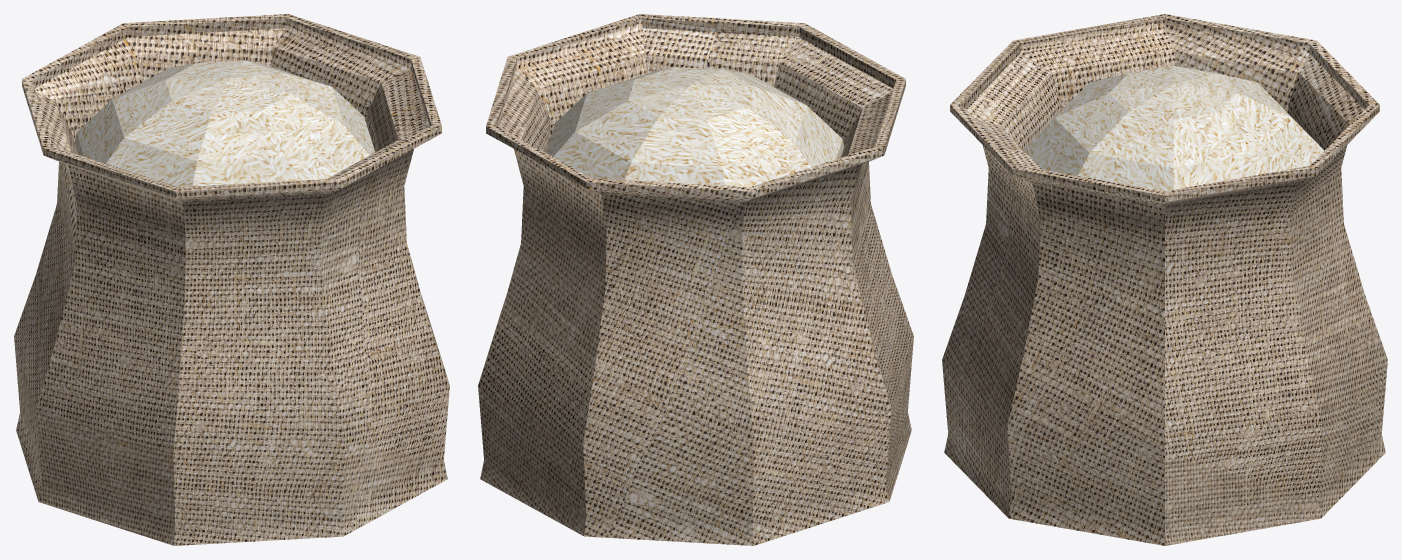
Rendered from Sackofrice.fbx.
3 renders of one model, left to right at view 1: azimuth 30°, elevation 25°; view 2: azimuth 150°, elevation 25°; view 3: azimuth 270°, elevation 25°, orthographic.
Visible parts, largest first — view 1: polySurface8; view 2: polySurface8; view 3: polySurface8.
Part boxes in pixels (x1,y1,x2,y2): polySurface8: (14, 14, 449, 545); polySurface8: (478, 14, 913, 545); polySurface8: (942, 14, 1387, 545).
Size of the model in its own units: 1.66 by 1.52 by 1.66.
